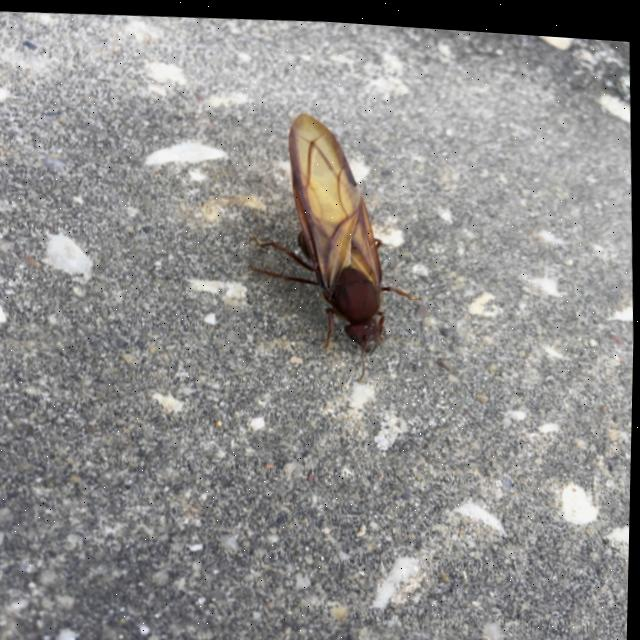Alive-Female-Alate: (241, 101, 429, 385)
